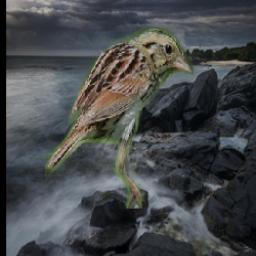Sparrow: (44, 28, 193, 210)
